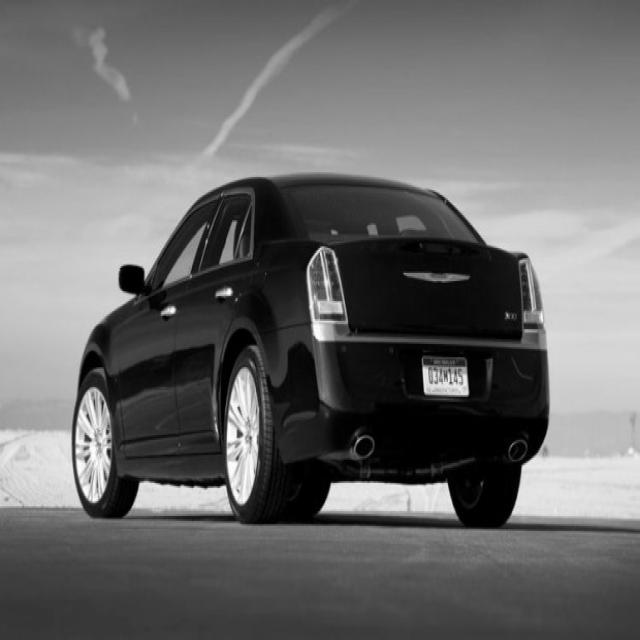car: (70, 170, 550, 528)
plat_license: (420, 354, 470, 397)
